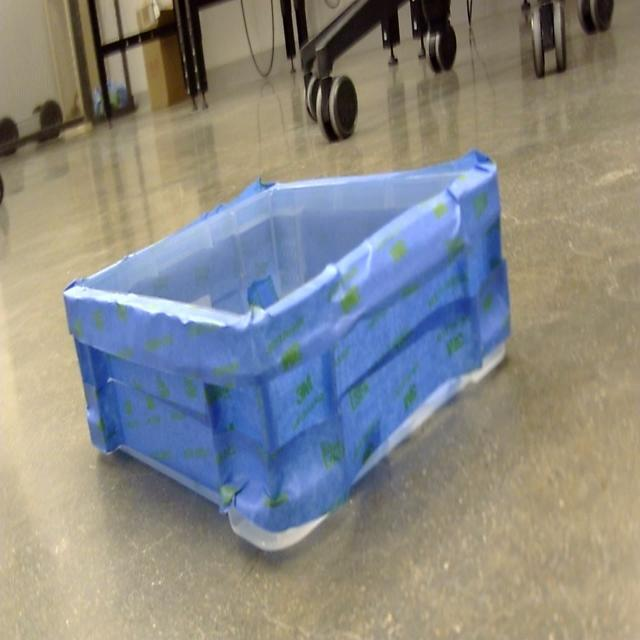bucket: (62, 151, 512, 556)
